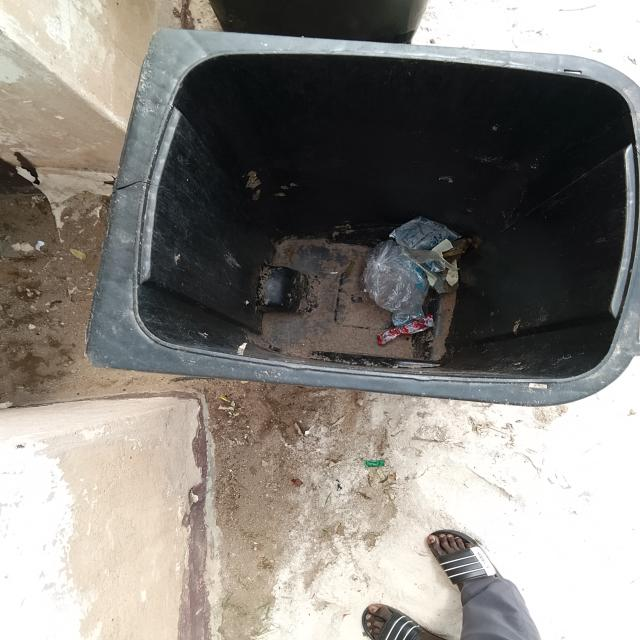empty: (110, 21, 640, 406)
